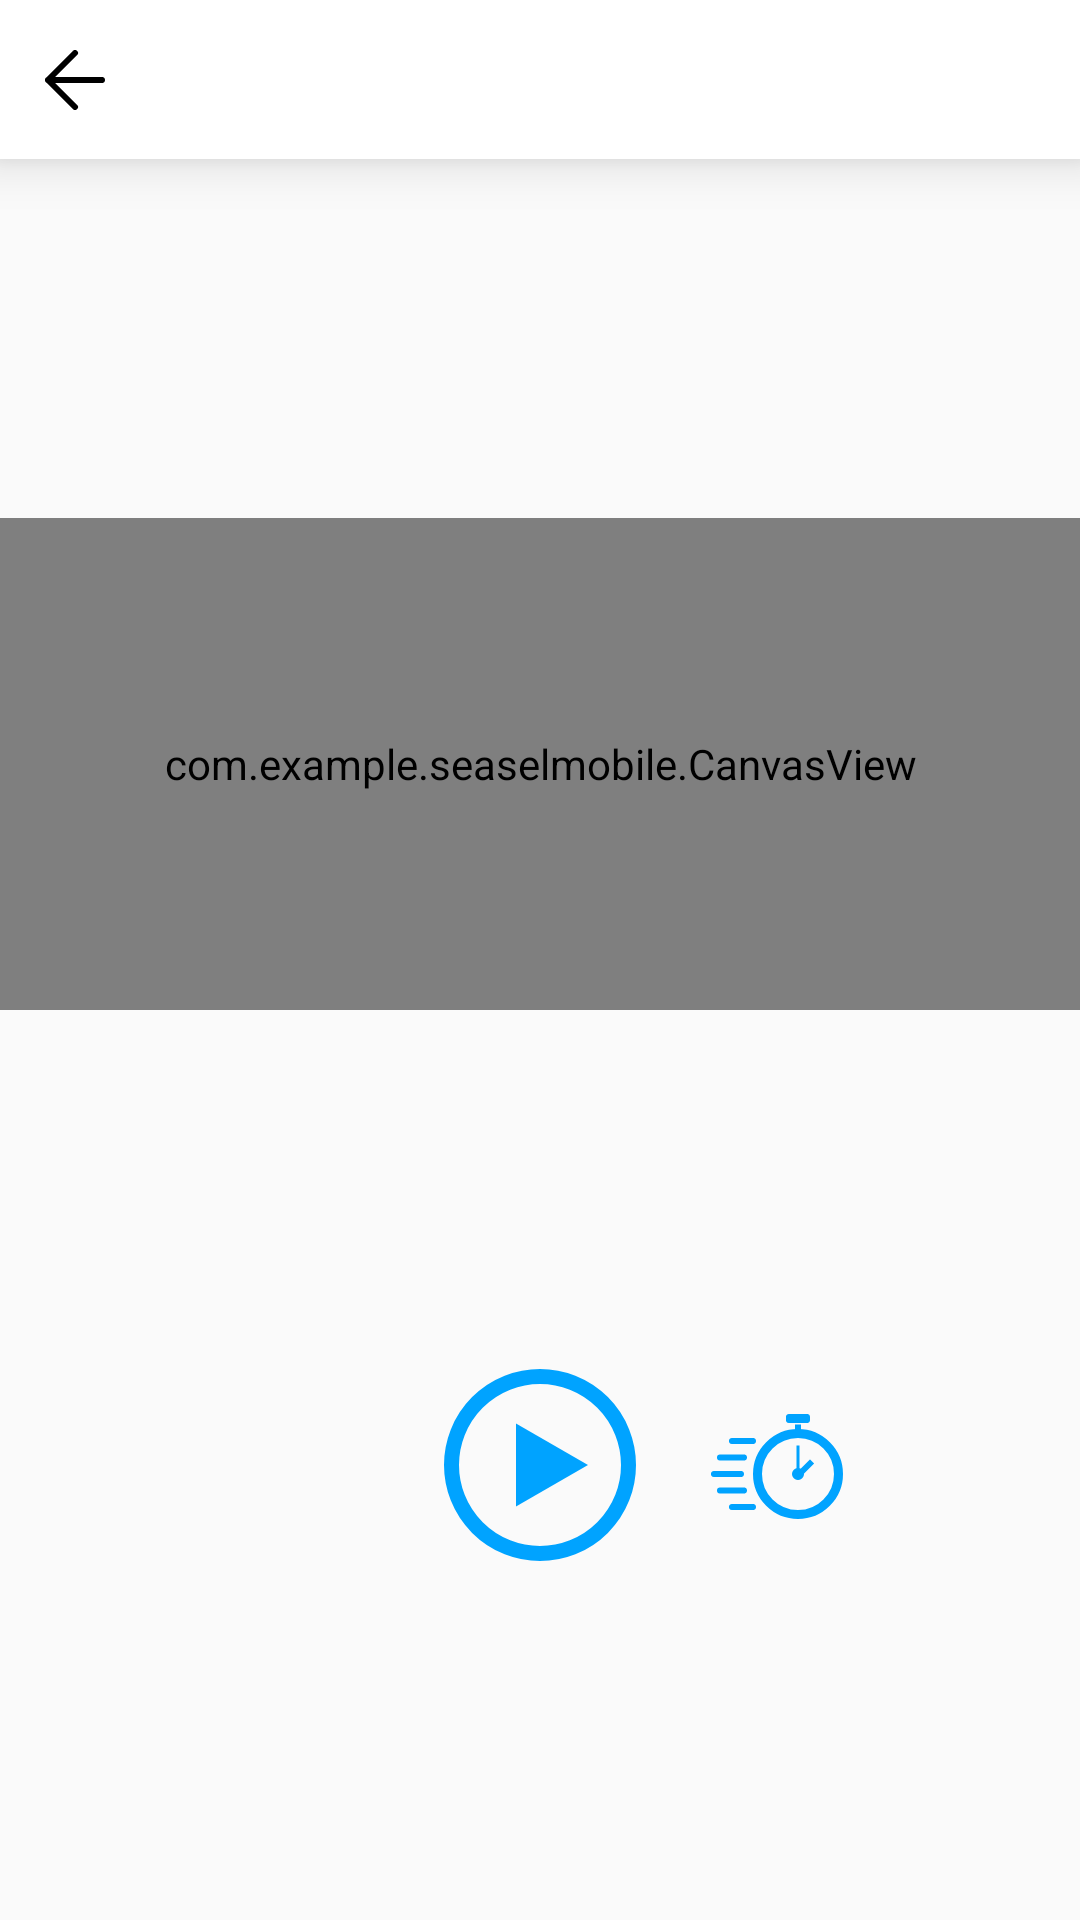

Where icons sit on this 1080x1920 app screen, as (x1, y1, x2, y2):
back: (45, 50, 105, 110)
play: (444, 1369, 636, 1561)
speed: (711, 1414, 843, 1519)
